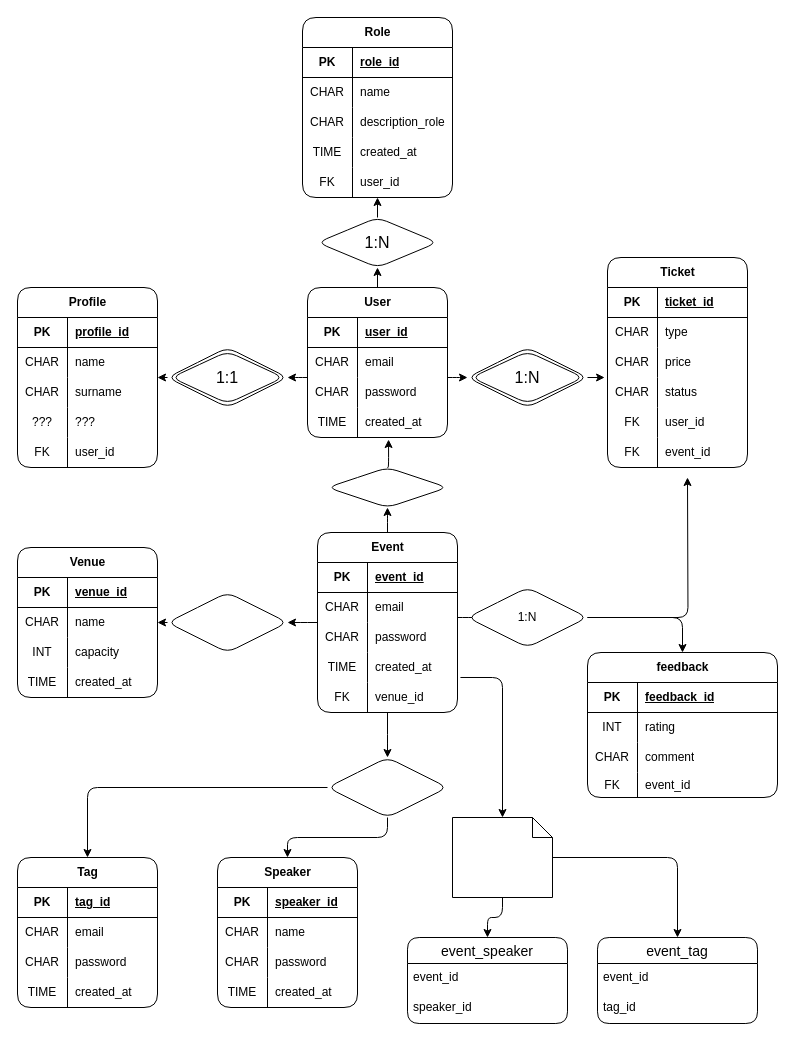
This 795x1044 diagram has some shape labels left out. Here are the shapes that lost their labels. From the top down, the centre of each, then its label:
the point at 387,487: Relationship
the point at 227,622: N:1
the point at 387,787: N:N
the point at 502,857: Join tables
